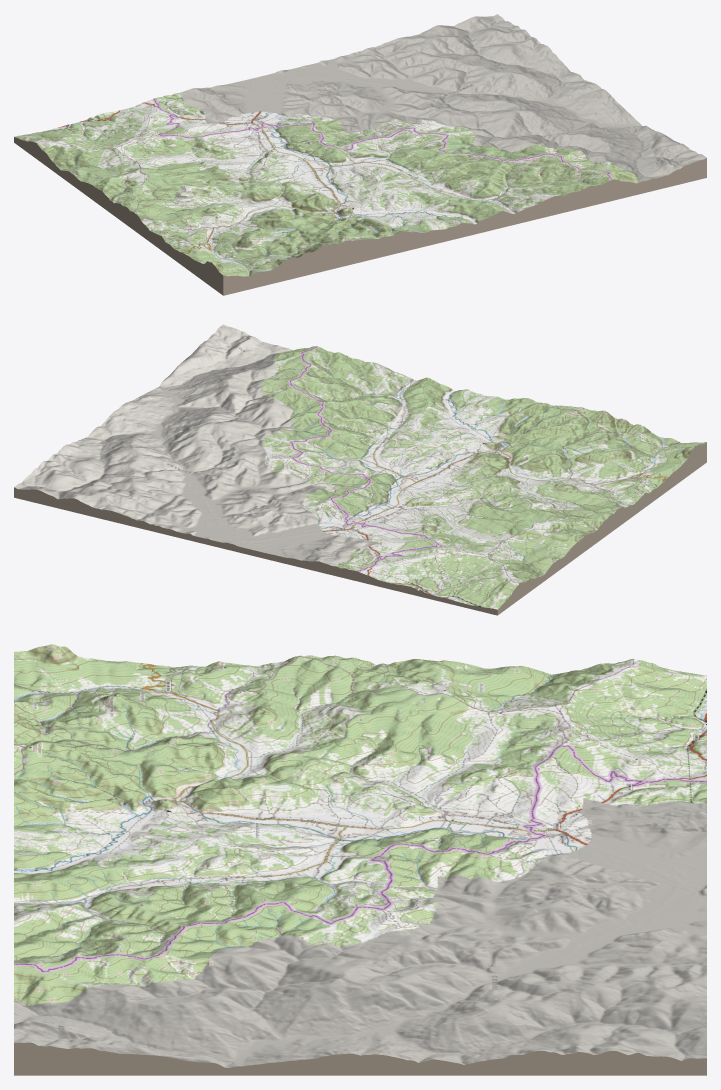
3 renders of one model, top to bottom at view 1: azimuth 30°, elevation 25°; view 2: azimuth 150°, elevation 25°; view 3: azimuth 270°, elevation 25°, orthographic. The views are drawn at different scales.
Parts seen in each view (by area): view 1: BV50-E6 Vama Buzăului; view 2: BV50-E6 Vama Buzăului; view 3: BV50-E6 Vama Buzăului.
Part boxes in pixels (box(x1,y1,x2,y2)): BV50-E6 Vama Buzăului: box(14, 14, 706, 295); BV50-E6 Vama Buzăului: box(14, 324, 706, 615); BV50-E6 Vama Buzăului: box(14, 644, 706, 1075).
Bounding box in the file's own units: 20000 × 1056 × 15002.
6 materials, 1 textured.
